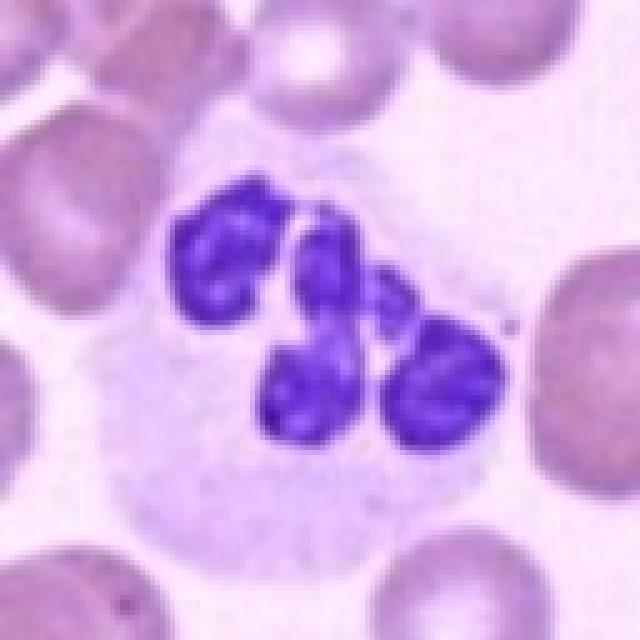neutro: (87, 170, 542, 617)
